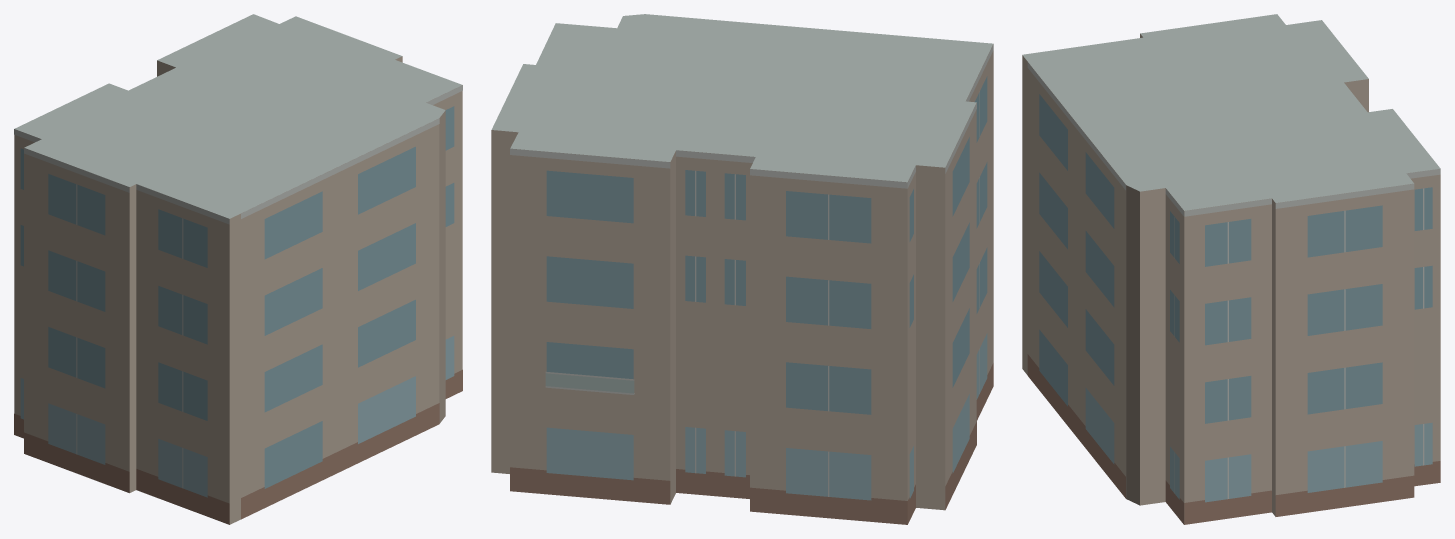
The model's file is survey-upis-32741713.glb.
The picture shows the model from 3 angles, left to right: view 1: azimuth 30°, elevation 25°; view 2: azimuth 150°, elevation 25°; view 3: azimuth 270°, elevation 25°; orthographic projection. The views are drawn at different scales.
Visible parts, largest first — view 1: survey-upis-32741713.tmp; view 2: survey-upis-32741713.tmp; view 3: survey-upis-32741713.tmp.
Boxes of the visible parts, x1,y1,x2,y2 form: survey-upis-32741713.tmp: [14, 14, 462, 524]; survey-upis-32741713.tmp: [491, 14, 993, 524]; survey-upis-32741713.tmp: [1022, 14, 1440, 524].
Bounding box in the file's own units: 17.49 × 13 × 15.71.
